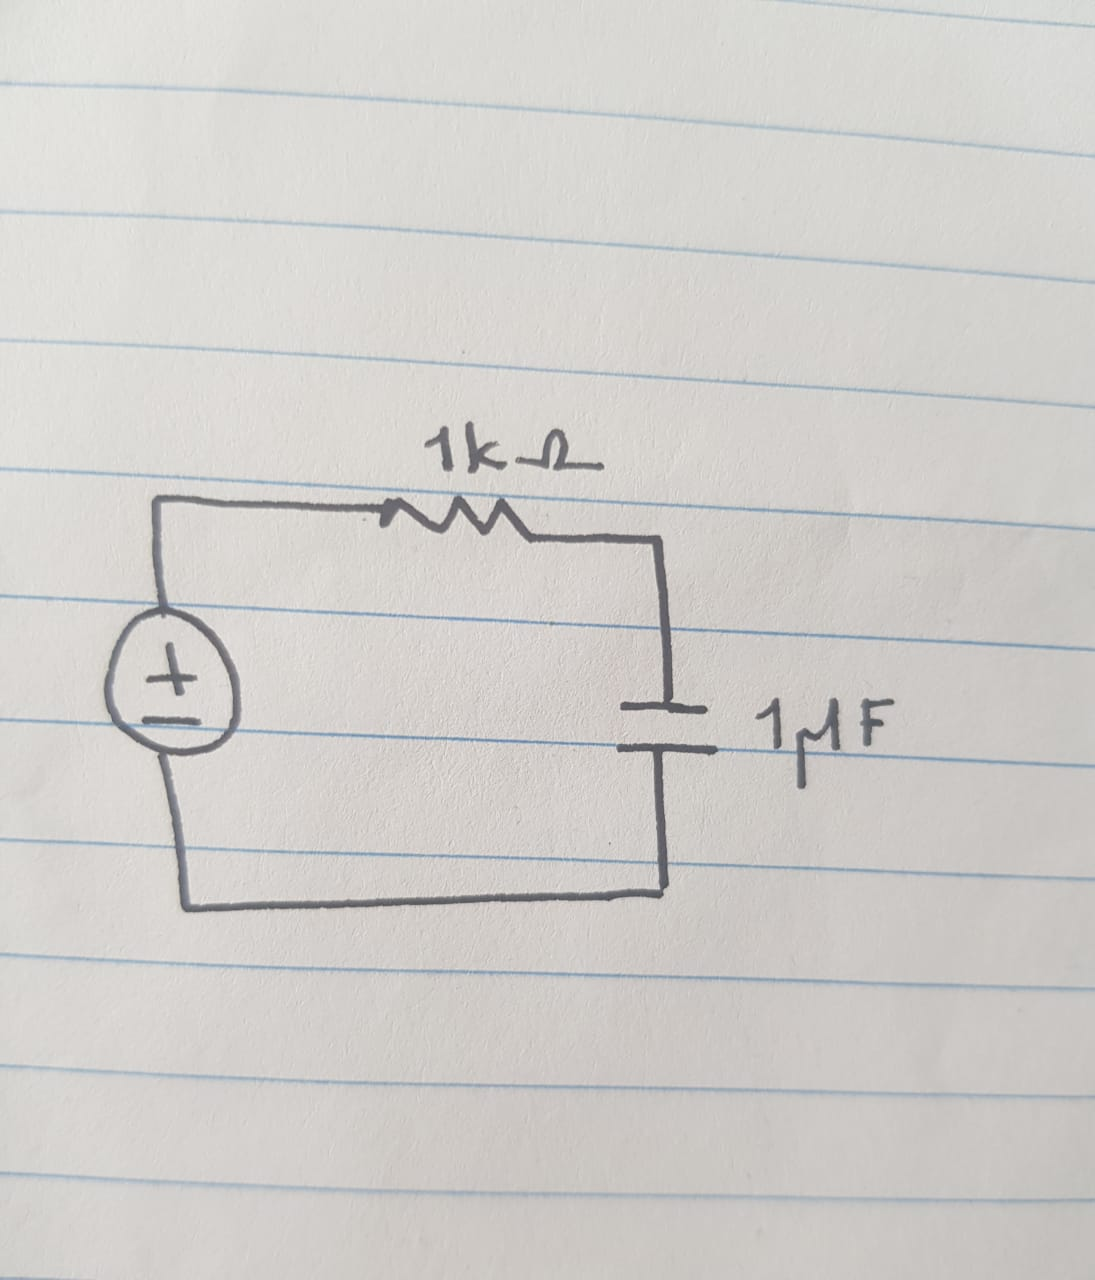capacitor.unpolarized: (606, 683, 729, 766)
junction: (640, 874, 685, 906), (166, 893, 216, 920), (631, 528, 682, 554), (137, 487, 180, 515)
resistor: (370, 475, 541, 559)
text: (743, 693, 923, 791), (406, 413, 624, 481)
voltage.dc: (100, 601, 247, 766)
